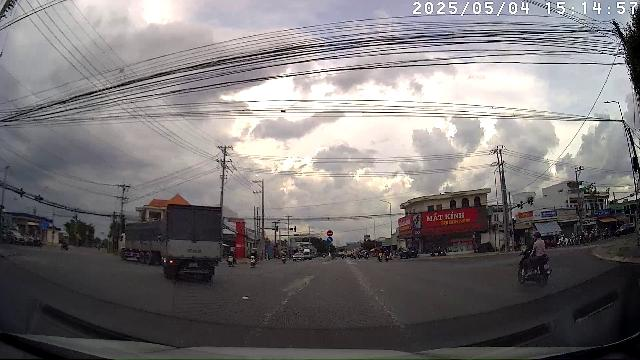102-cam-di-nguoc-chieu: (327, 230, 333, 236)
302a-huong-phai-di-vong-chuong-ngai-vat-1: (327, 237, 333, 243)
